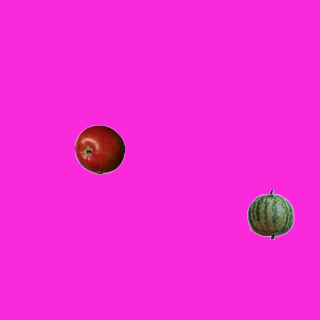Apple Braeburn: (74, 124, 124, 174)
Watermelon: (245, 189, 295, 239)
